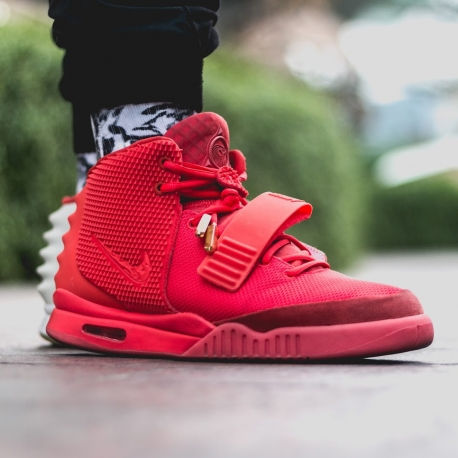Yeezy Red October: (43, 127, 443, 363)
